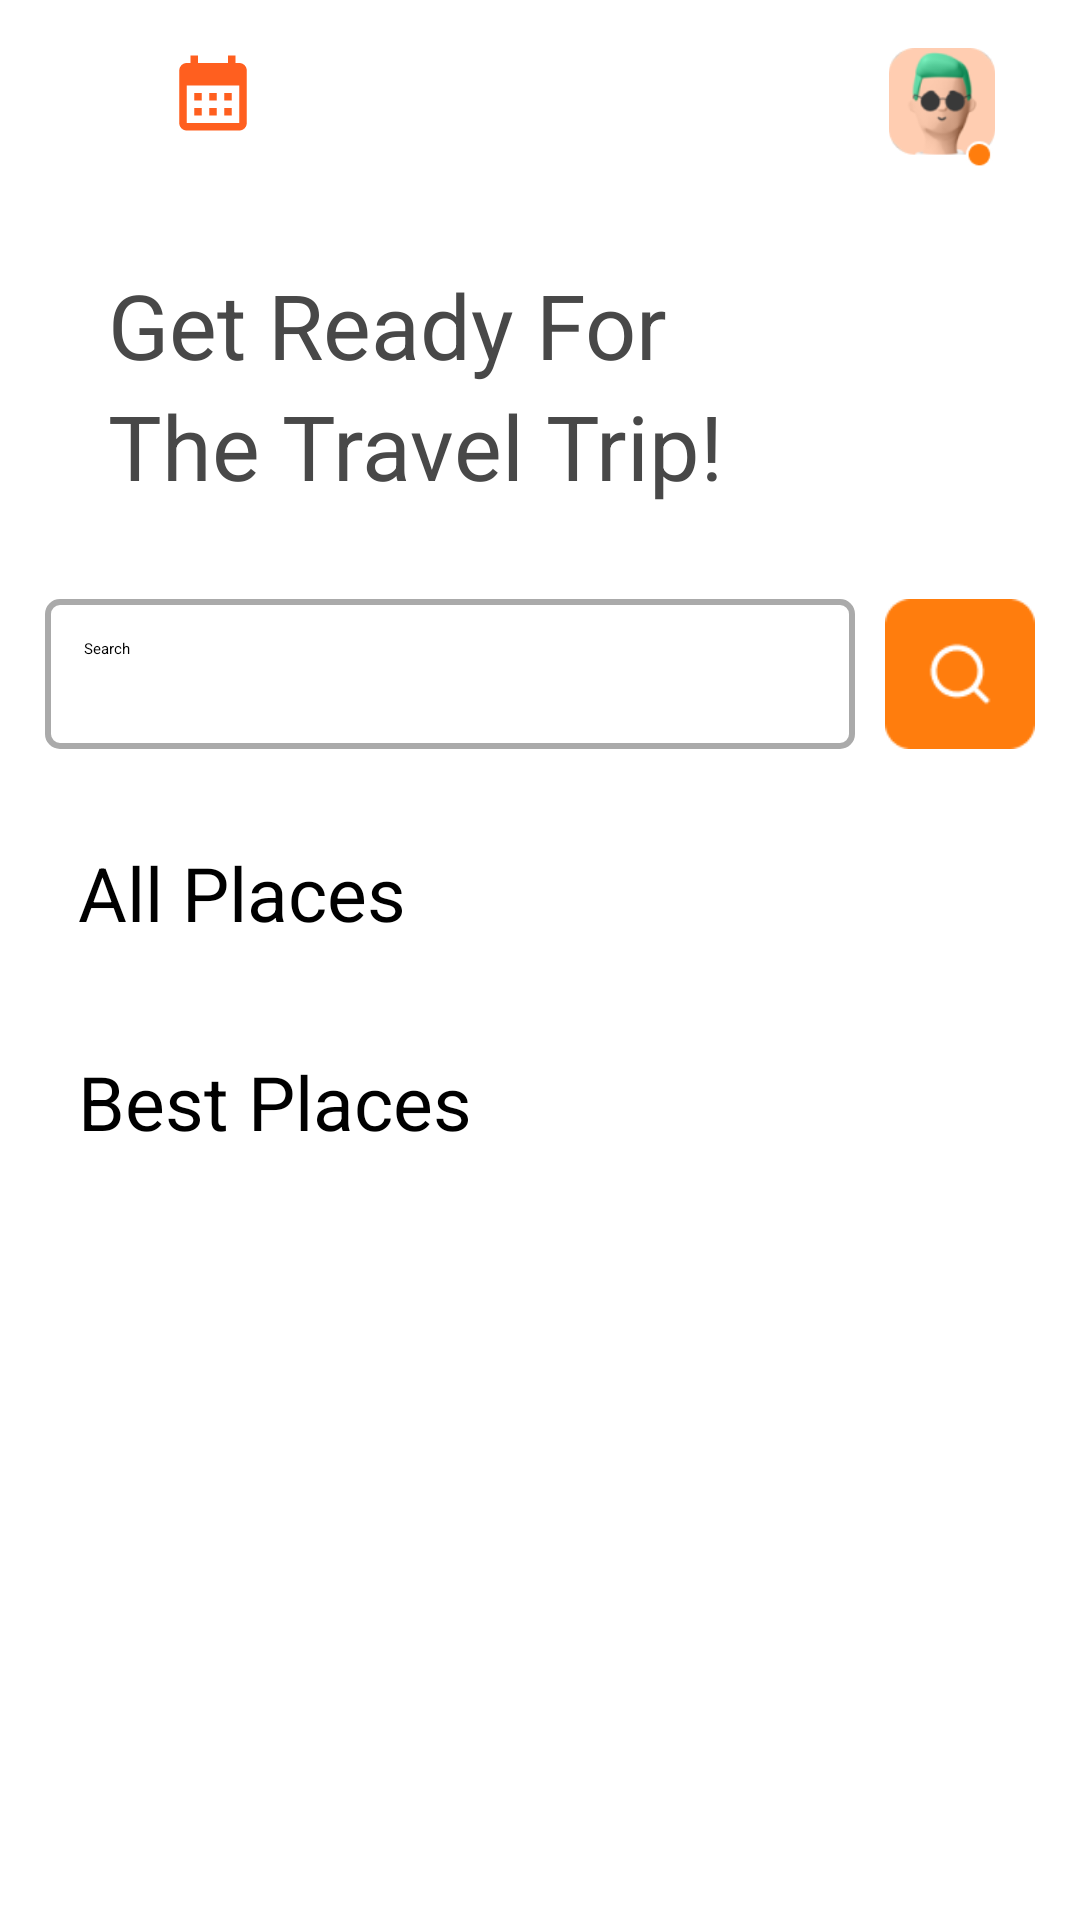

Point at icon controls on the screen. Image size 1080 x 1920, points as [x,y].
calendar month: [213,93]
